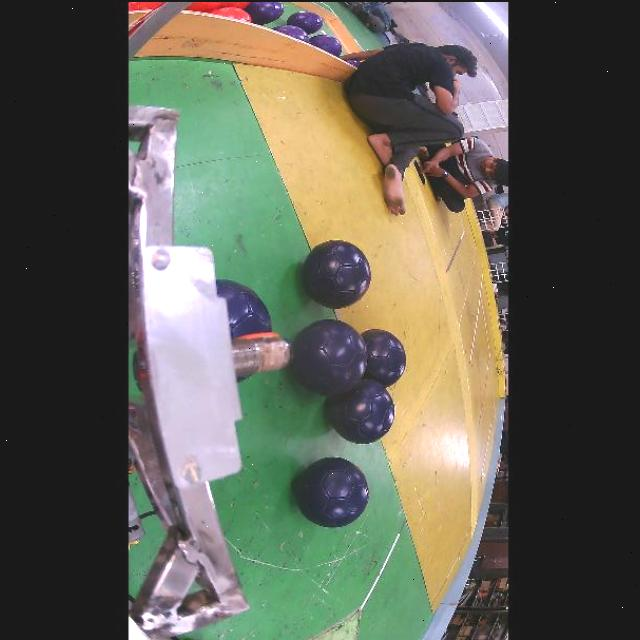B: (290, 316, 367, 392), (294, 456, 369, 526), (308, 239, 374, 308), (327, 378, 396, 443), (216, 277, 273, 337), (360, 328, 406, 386)
P: (245, 0, 285, 23), (288, 10, 323, 32), (310, 32, 343, 54), (273, 23, 310, 41)
R: (210, 6, 252, 20), (186, 0, 223, 11), (129, 0, 167, 10), (222, 0, 251, 7)
